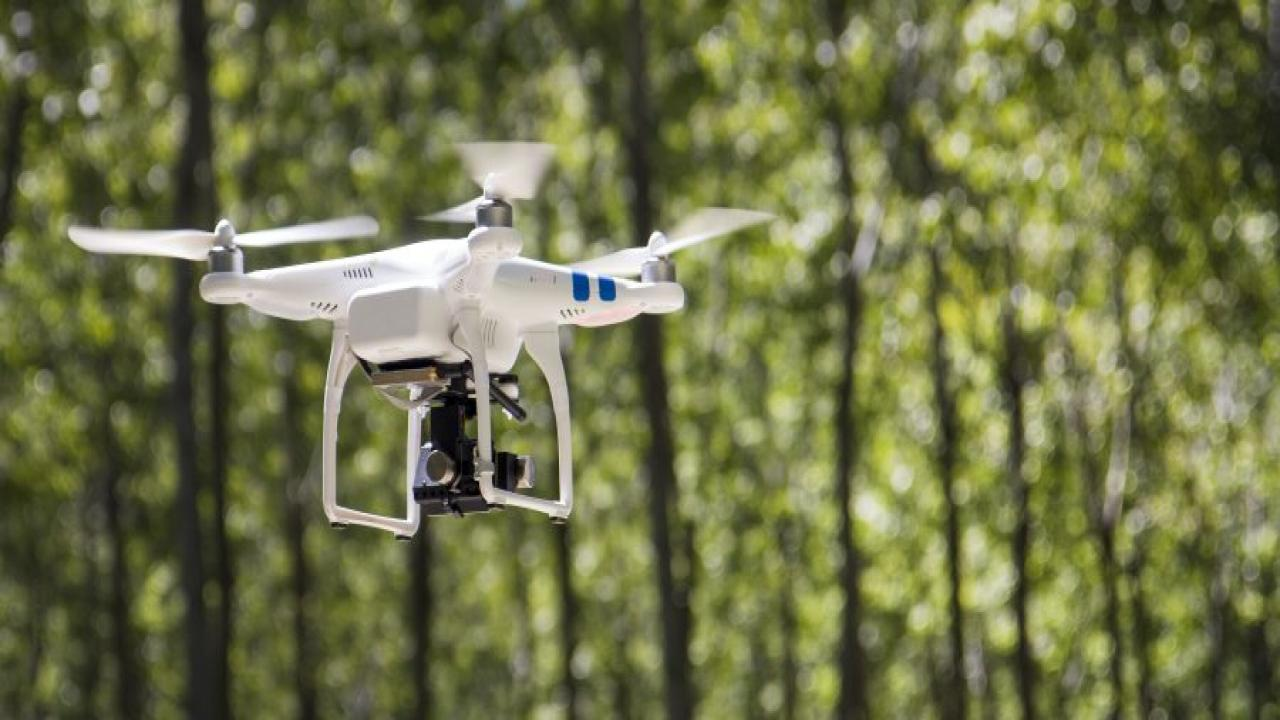Drone: (55, 124, 801, 568)
